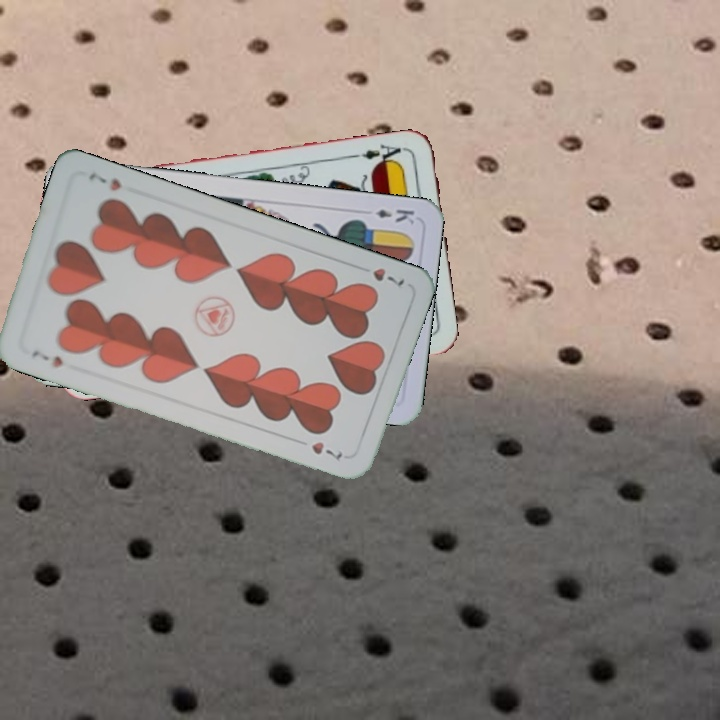EA: (350, 140, 409, 168)
EK: (371, 205, 417, 226)
H7: (368, 263, 408, 289), (27, 346, 66, 371)
